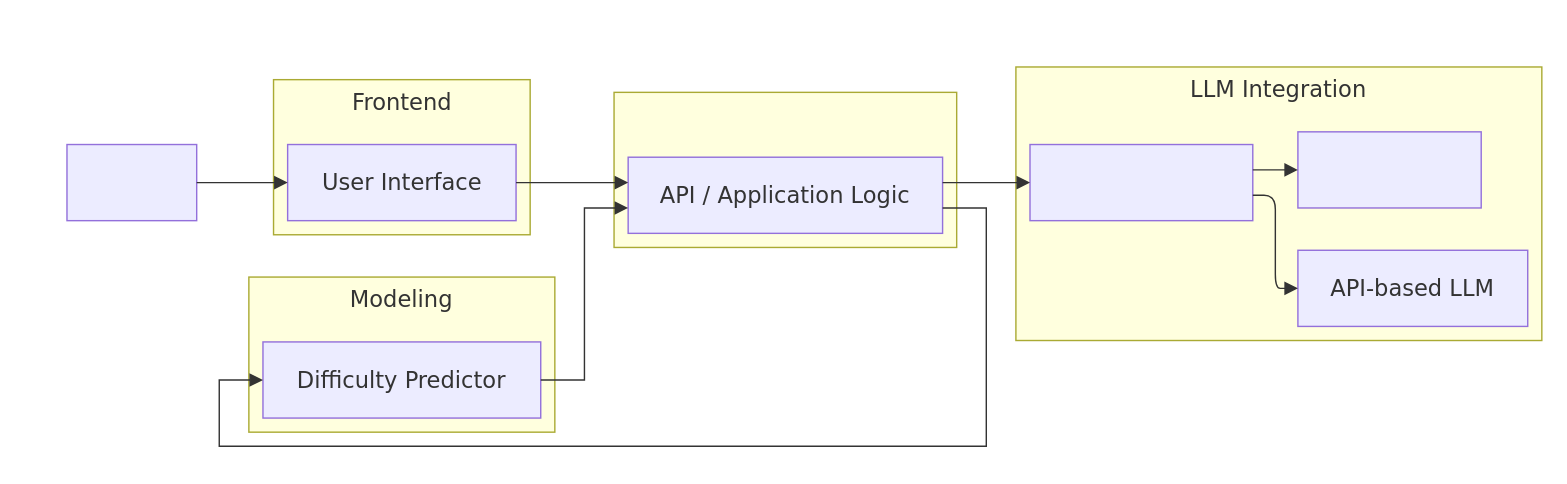
Image size: 1567x484. Some labels were removed from this diagram. The shapes that lost their labels are listed below. From the top down, each one's box as (x1, y1, x2, y2) in pixels, then its label:
(66, 143, 197, 221): User
(613, 91, 957, 247): Backend
(1029, 143, 1253, 221): LLM Interface
(1296, 130, 1481, 208): Local LLM
